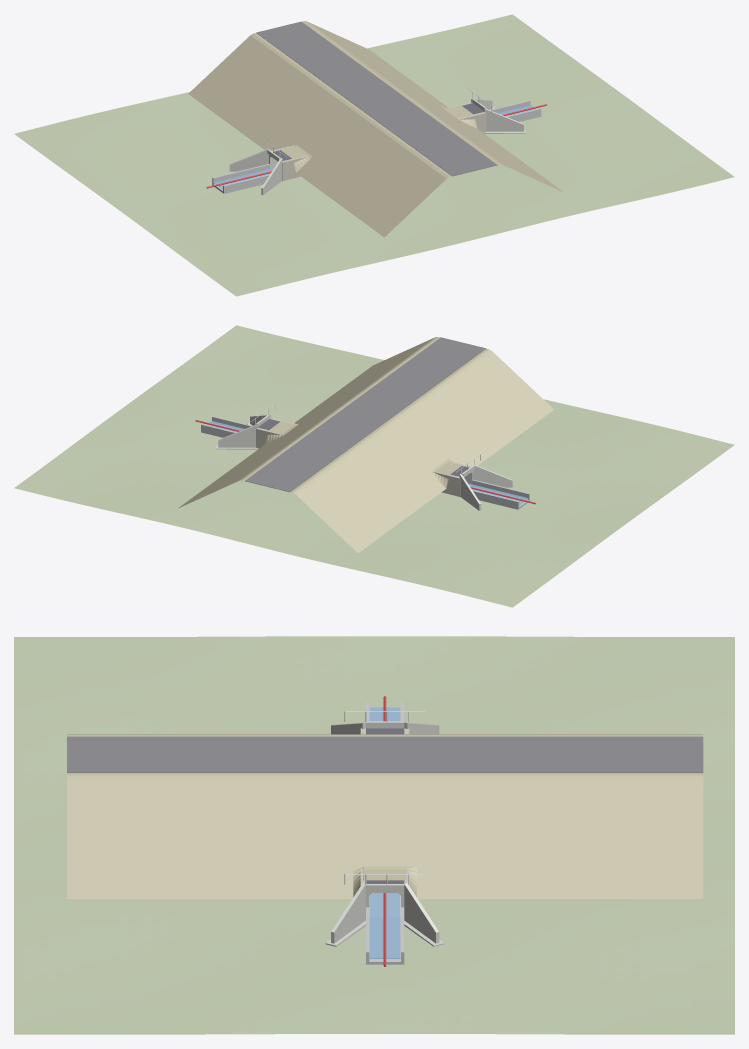
3 renders of one model, top to bottom at view 1: azimuth 30°, elevation 25°; view 2: azimuth 150°, elevation 25°; view 3: azimuth 270°, elevation 25°, orthographic. The views are drawn at different scales.
Parts seen in each view (by area): view 1: 地形|現況地形 (参考), 土工|道路盛土 (参考, 天端幅9.5m H=5.0m 法1:1.5), 道路|道路舗装 (参考), 取付水路|取付水路 (上流, コンクリート三面張り L=10m), 裏込め|裏込め砕石 (BOX 側面, 幅0.5m), 翼壁|翼壁 (下流左, 斜め30° L=6m), 取付水路|取付水路 (下流, コンクリート三面張り L=10m), 翼壁|翼壁 (上流右, 斜め30° L=6m), 地形|水面 (参考); view 2: 地形|現況地形 (参考), 土工|道路盛土 (参考, 天端幅9.5m H=5.0m 法1:1.5), 道路|道路舗装 (参考), 取付水路|取付水路 (上流, コンクリート三面張り L=10m), 裏込め|裏込め砕石 (BOX 側面, 幅0.5m), 翼壁|翼壁 (下流右, 斜め30° L=6m), 取付水路|取付水路 (下流, コンクリート三面張り L=10m), 翼壁|翼壁 (上流左, 斜め30° L=6m), 地形|水面 (参考); view 3: 地形|現況地形 (参考), 土工|道路盛土 (参考, 天端幅9.5m H=5.0m 法1:1.5), 道路|道路舗装 (参考), 地形|水面 (参考), 取付水路|取付水路 (下流, コンクリート三面張り L=10m), 翼壁|翼壁 (下流右, 斜め30° L=6m), 翼壁|翼壁 (下流左, 斜め30° L=6m), 本体|底版 t=35cm (ブロック4).
Boxes of the visible parts, <box> form: 地形|現況地形 (参考): <box>14,14,734,296</box>; 土工|道路盛土 (参考, 天端幅9.5m H=5.0m 法1:1.5): <box>188,21,564,237</box>; 道路|道路舗装 (参考): <box>256,21,497,176</box>; 取付水路|取付水路 (上流, コンクリート三面張り L=10m): <box>212,164,269,193</box>; 裏込め|裏込め砕石 (BOX 側面, 幅0.5m): <box>271,102,486,181</box>; 翼壁|翼壁 (下流左, 斜め30° L=6m): <box>484,108,523,131</box>; 取付水路|取付水路 (下流, コンクリート三面張り L=10m): <box>490,100,541,121</box>; 翼壁|翼壁 (上流右, 斜め30° L=6m): <box>229,148,268,171</box>; 地形|水面 (参考): <box>213,105,535,189</box>; 地形|現況地形 (参考): <box>14,325,734,607</box>; 土工|道路盛土 (参考, 天端幅9.5m H=5.0m 法1:1.5): <box>178,337,553,552</box>; 道路|道路舗装 (参考): <box>245,337,485,491</box>; 取付水路|取付水路 (上流, コンクリート三面張り L=10m): <box>472,479,529,509</box>; 裏込め|裏込め砕石 (BOX 側面, 幅0.5m): <box>256,418,470,496</box>; 翼壁|翼壁 (下流右, 斜め30° L=6m): <box>218,424,257,447</box>; 取付水路|取付水路 (下流, コンクリート三面張り L=10m): <box>201,416,252,437</box>; 翼壁|翼壁 (上流左, 斜め30° L=6m): <box>473,464,512,487</box>; 地形|水面 (参考): <box>206,421,528,505</box>; 地形|現況地形 (参考): <box>14,636,734,1034</box>; 土工|道路盛土 (参考, 天端幅9.5m H=5.0m 法1:1.5): <box>67,734,703,898</box>; 道路|道路舗装 (参考): <box>67,736,703,772</box>; 地形|水面 (参考): <box>369,707,400,958</box>; 取付水路|取付水路 (下流, コンクリート三面張り L=10m): <box>366,907,404,964</box>; 翼壁|翼壁 (下流右, 斜め30° L=6m): <box>404,883,439,943</box>; 翼壁|翼壁 (下流左, 斜め30° L=6m): <box>331,883,365,943</box>; 本体|底版 t=35cm (ブロック4): <box>369,893,400,916</box>.
Size of the model in its own units: 88 by 9.35 by 68.
